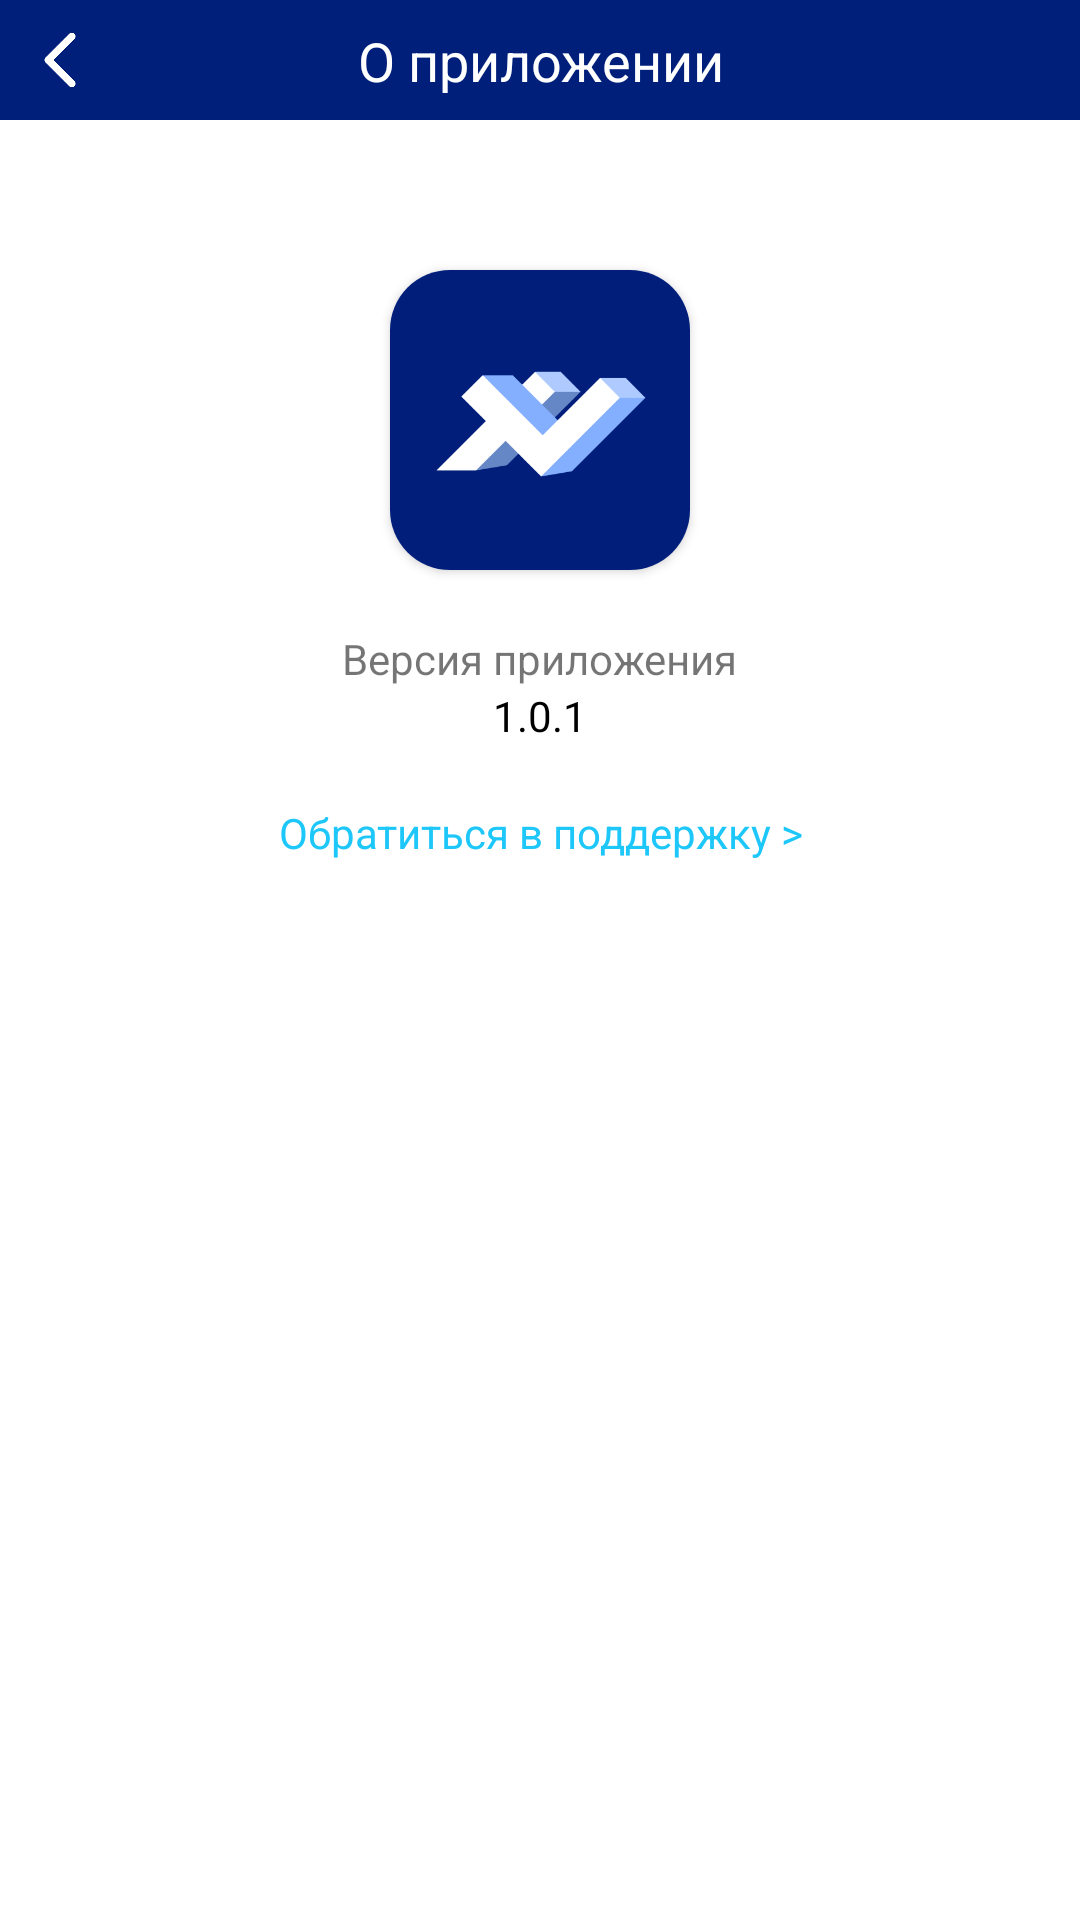

Icons on this 1080×1920 Android screen, each with its box as (x1, y1, x2, y2):
goback: (44, 33, 76, 87)
